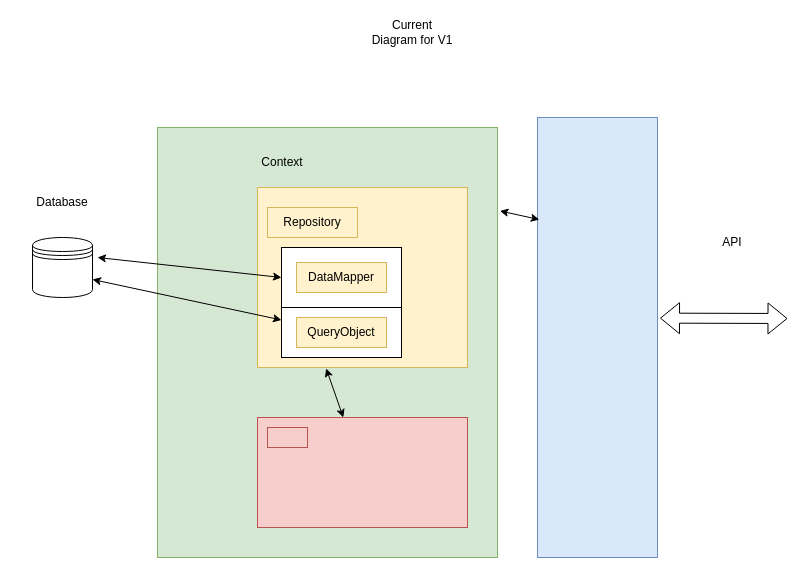
The diagram is 804 pixels wide and 575 high, and some of its shapes have lost their labels. Here are the shapes that lost their labels. From the top down, the centre of each, then its label:
At pixel 597 337: "Unity of work".
At pixel 287 437: "Models".
